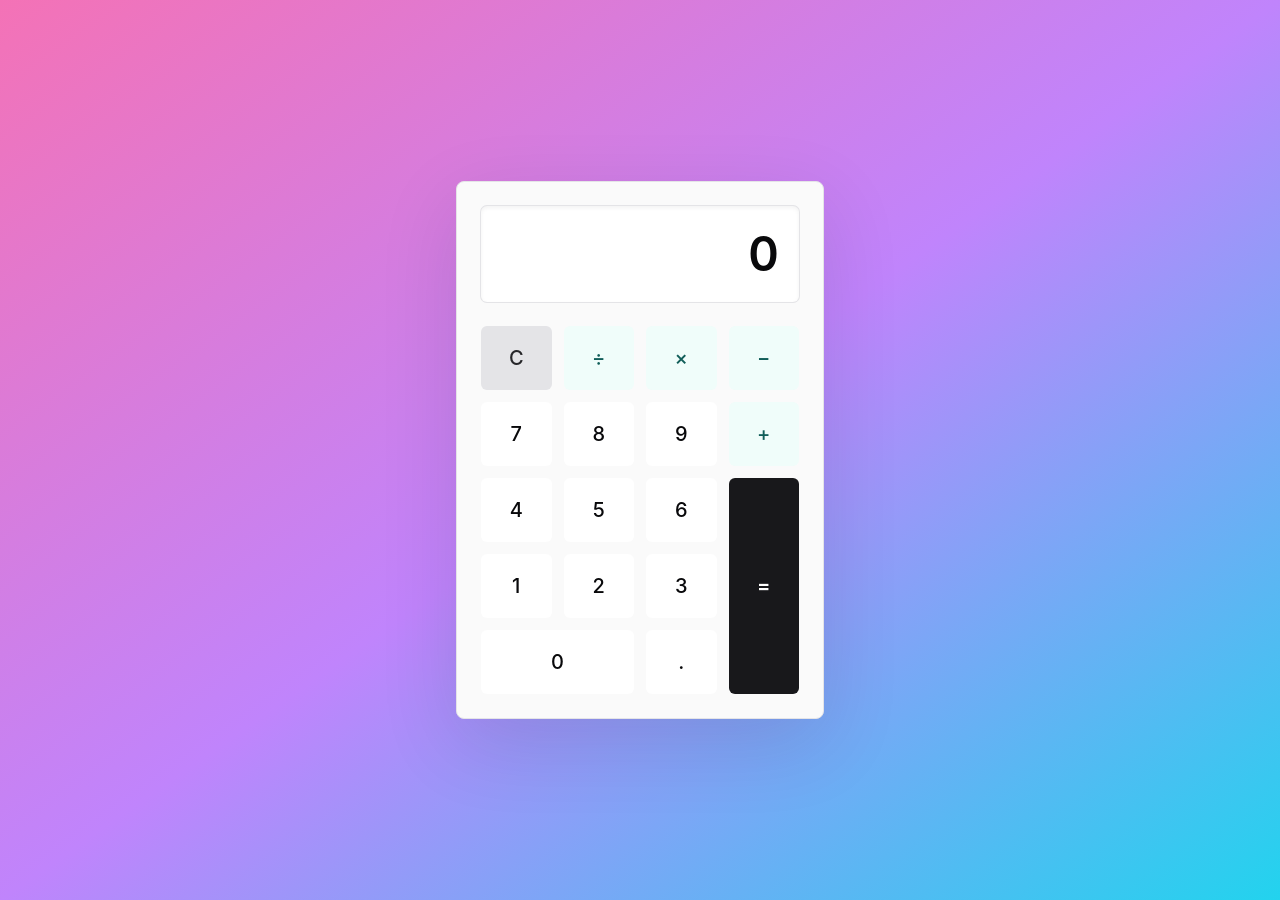
Scenario: App › renders a usable calculator button grid
Expected: the element named "Calculator keypad" is shown, [481,326,799,694]
Expected: the button named "Clear" is shown, [481,326,552,390]
Click the button "7": point(516, 434) [481,402,552,466]
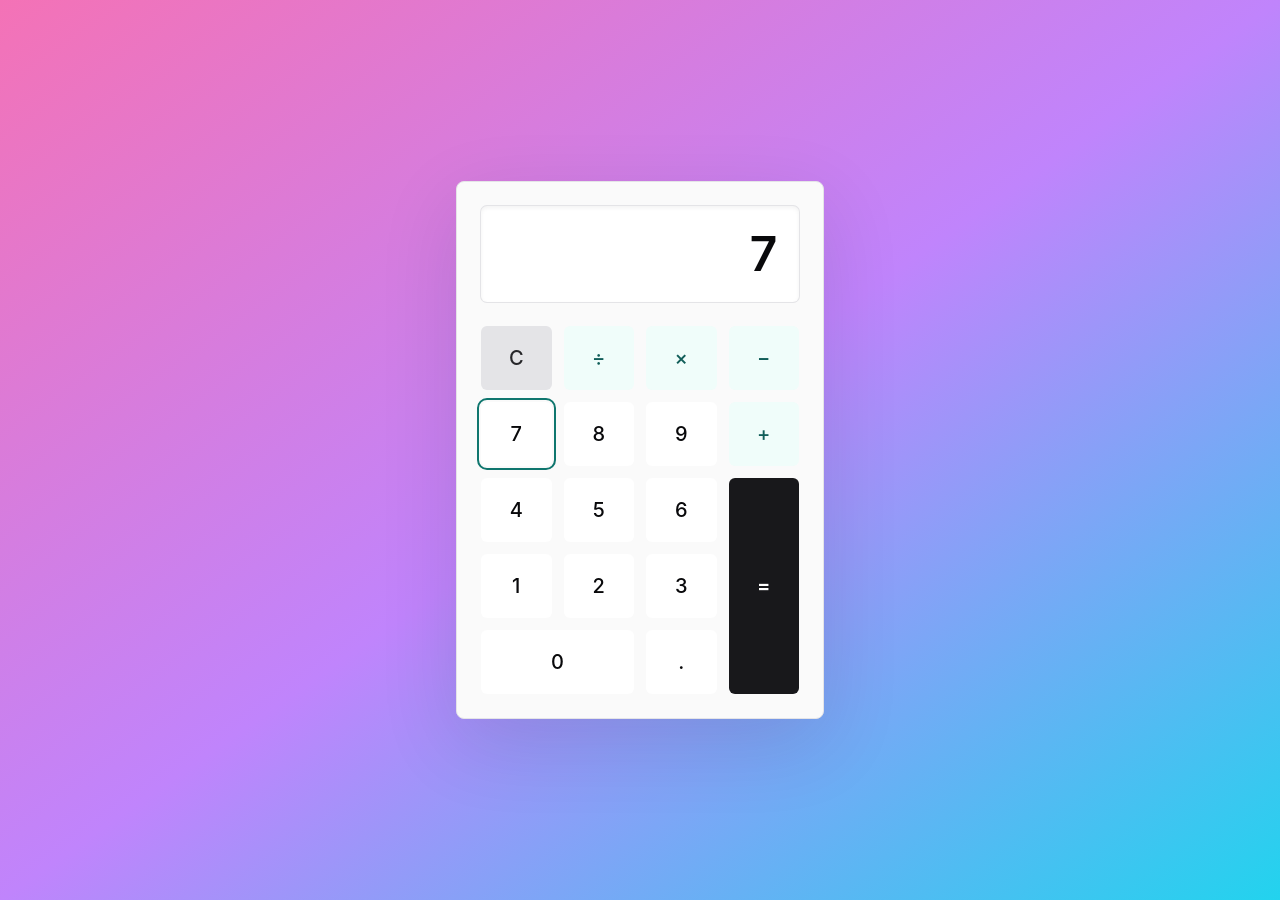
Click the button named "Add": point(764, 434) [728,402,799,466]
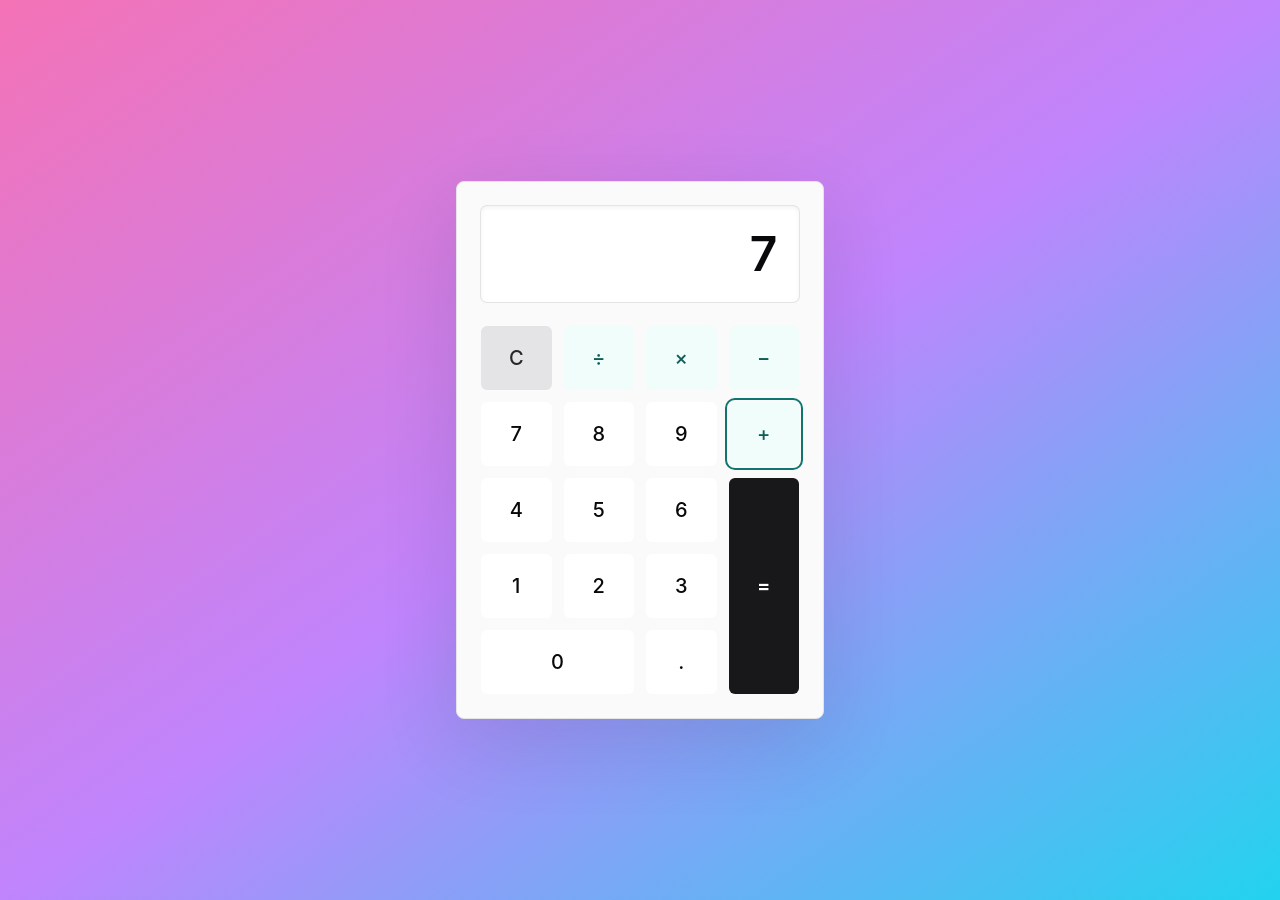
Click the button "5": point(599, 510) [564,478,634,542]
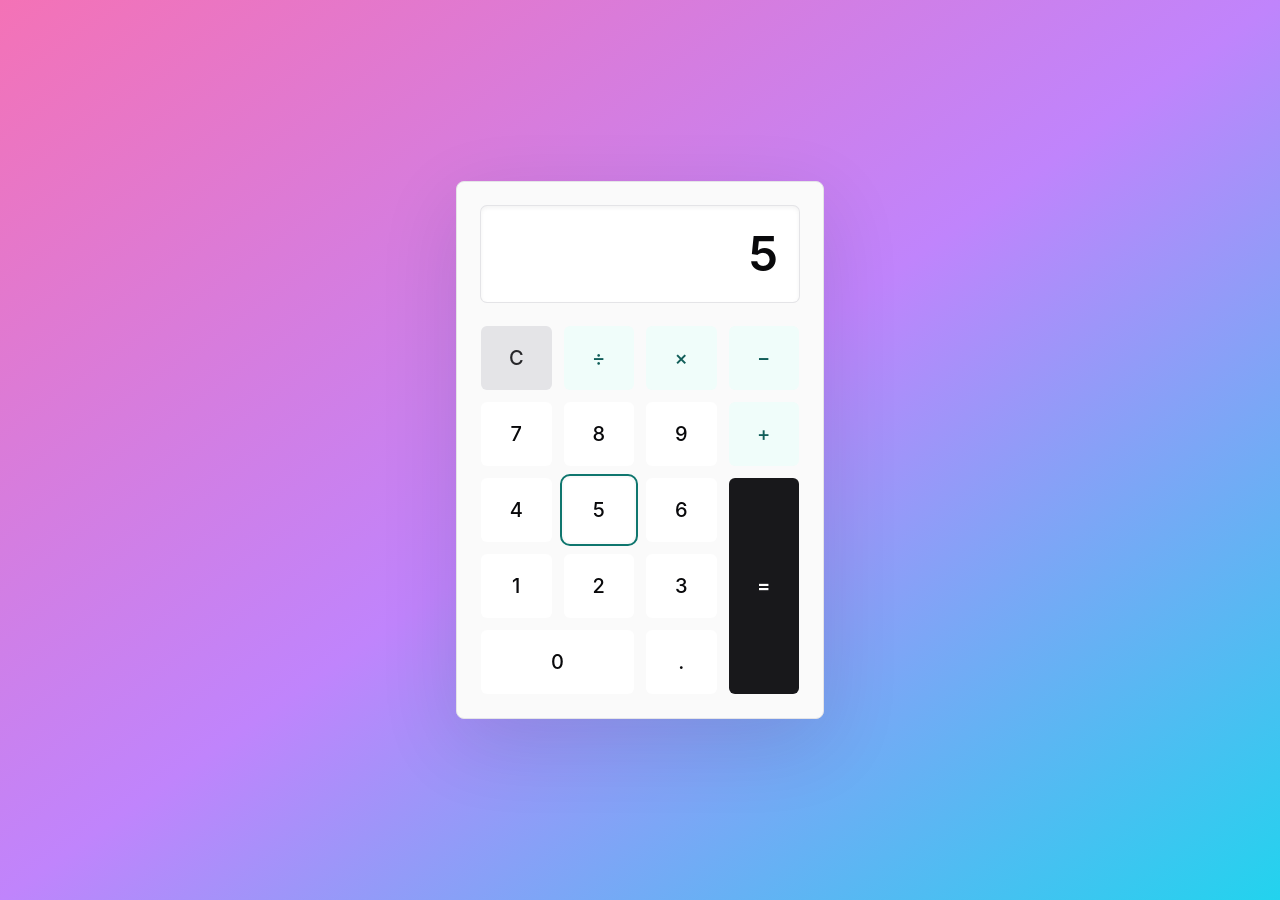
Click the button named "Equals": point(764, 586) [728,478,799,694]
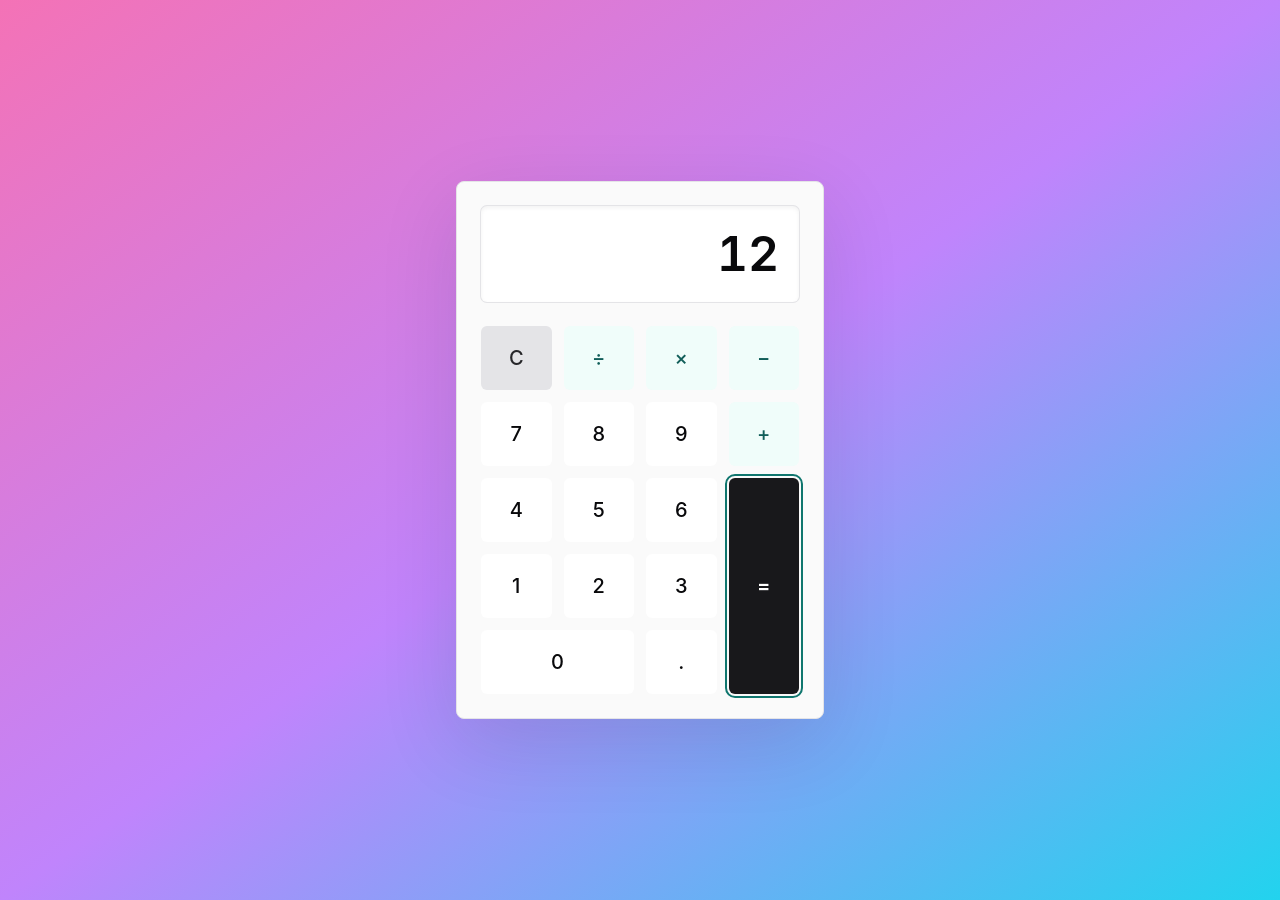
Expected: the text named "Calculator display" reads "12", [717,224,779,283]
